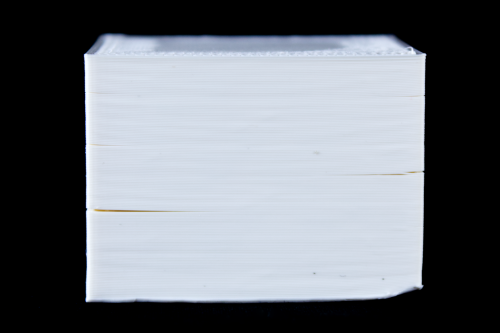crack: (67, 178, 234, 232), (300, 142, 451, 201)
